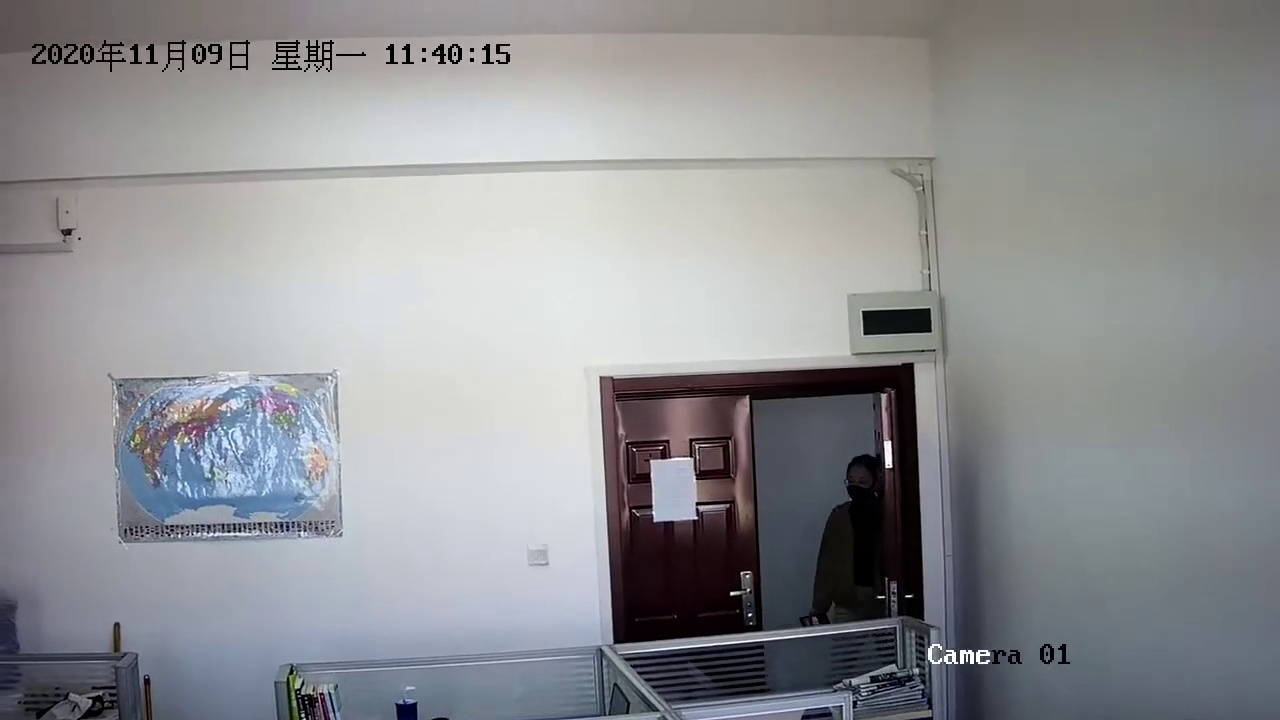mask: (842, 458, 879, 512)
